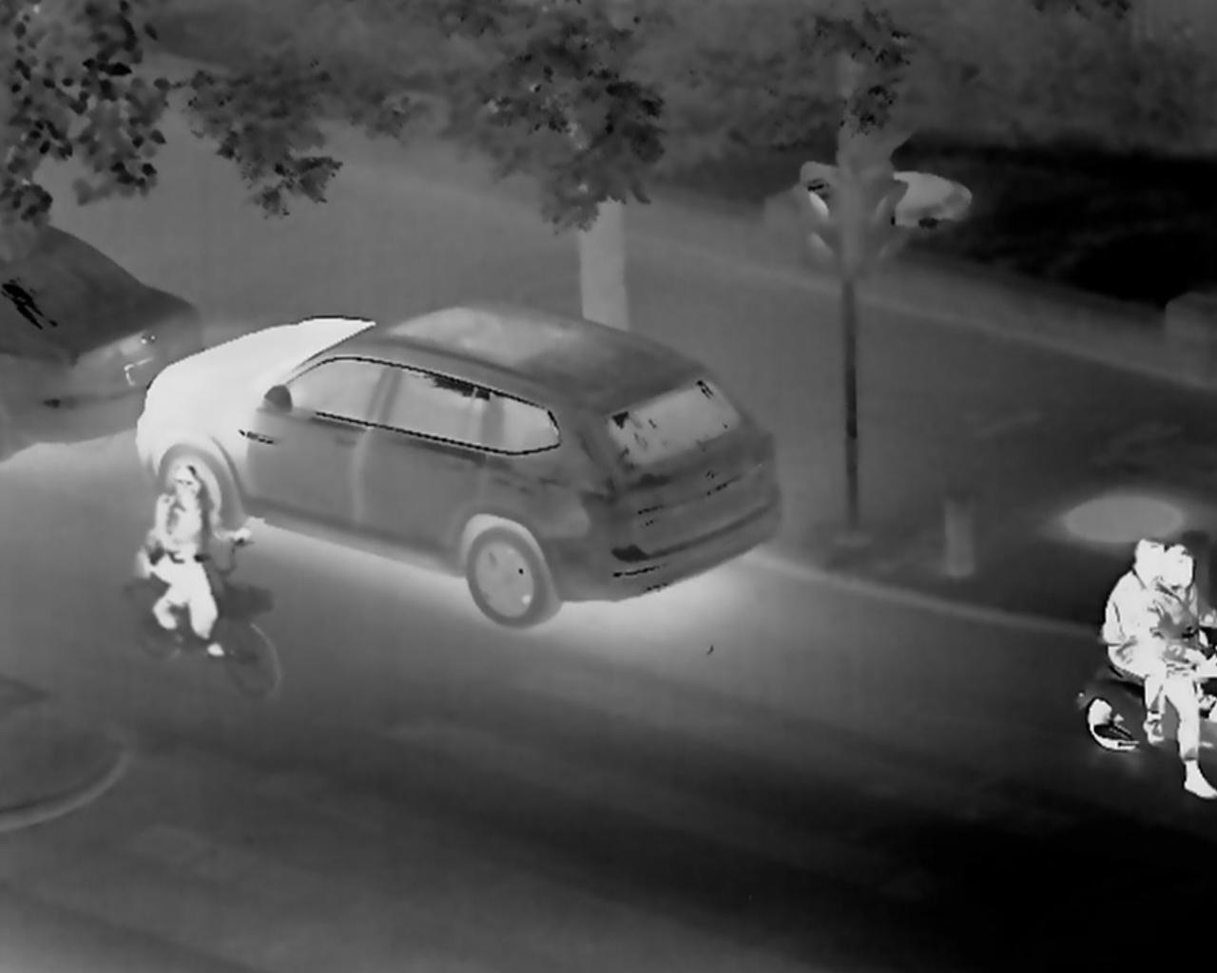person: (132, 453, 246, 660), (1127, 540, 1217, 798), (1094, 532, 1170, 748)
